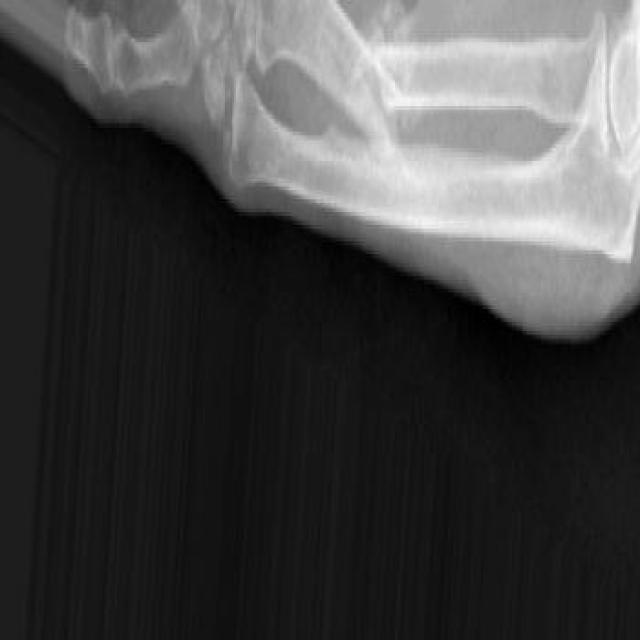Fracture: (356, 7, 394, 161)
